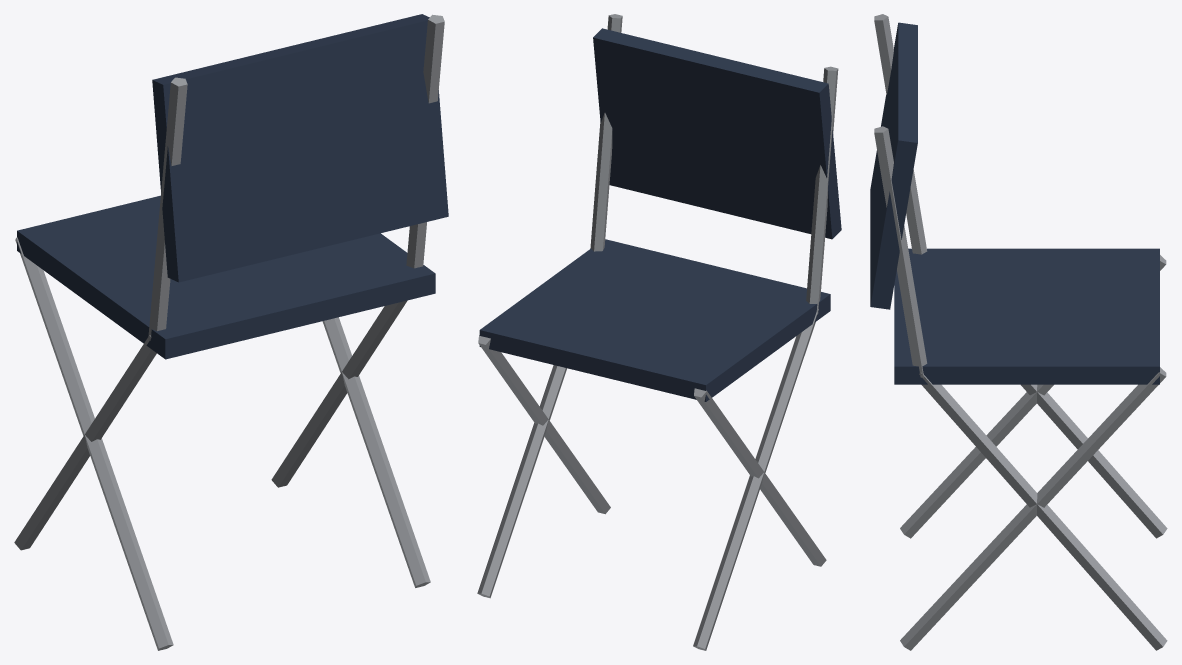
The model's file is lwf_folding_chair_v1.glb.
The picture shows the model from 3 angles, left to right: view 1: azimuth 30°, elevation 25°; view 2: azimuth 150°, elevation 25°; view 3: azimuth 270°, elevation 25°; orthographic projection. The views are drawn at different scales.
Visible parts, largest first — view 1: LWF_FoldingChair; view 2: LWF_FoldingChair; view 3: LWF_FoldingChair.
Part boxes in pixels (<box>): LWF_FoldingChair: <box>14,14,448,650</box>; LWF_FoldingChair: <box>477,14,841,650</box>; LWF_FoldingChair: <box>870,14,1167,650</box>.
Size of the model in its own units: 0.4228 by 0.8644 by 0.4474.
Materials: 1 (1 with a texture image).
